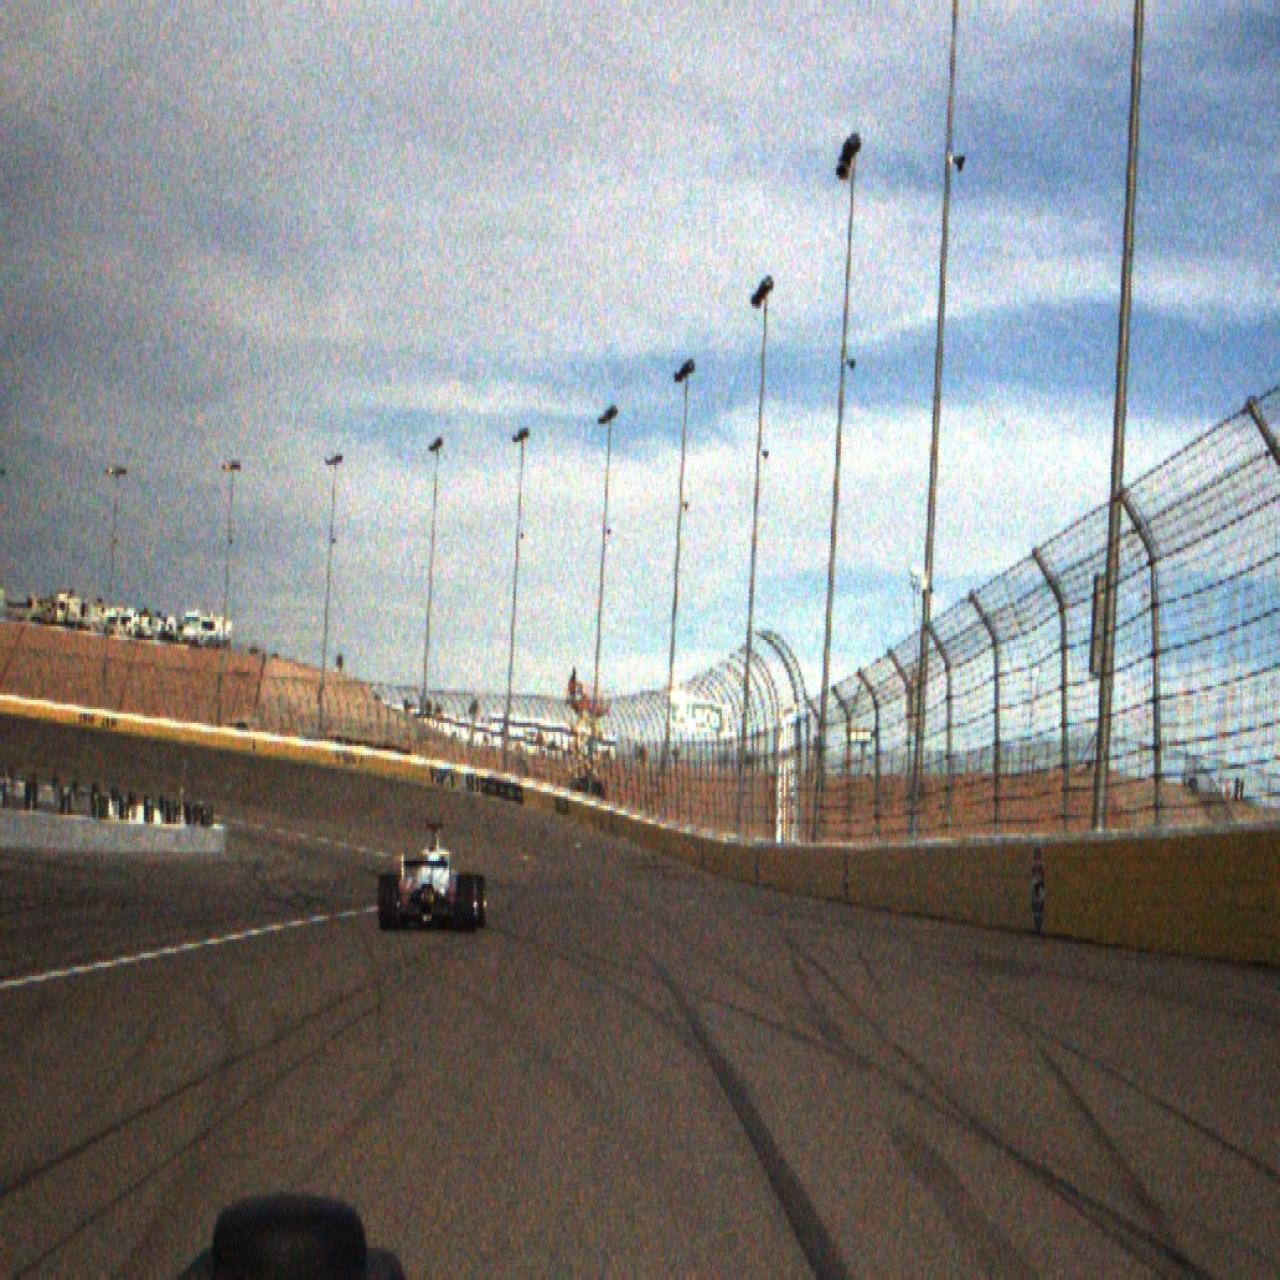AV: (377, 822, 486, 932)
Wheel: (379, 874, 397, 931), (457, 874, 476, 931), (474, 874, 485, 928)
